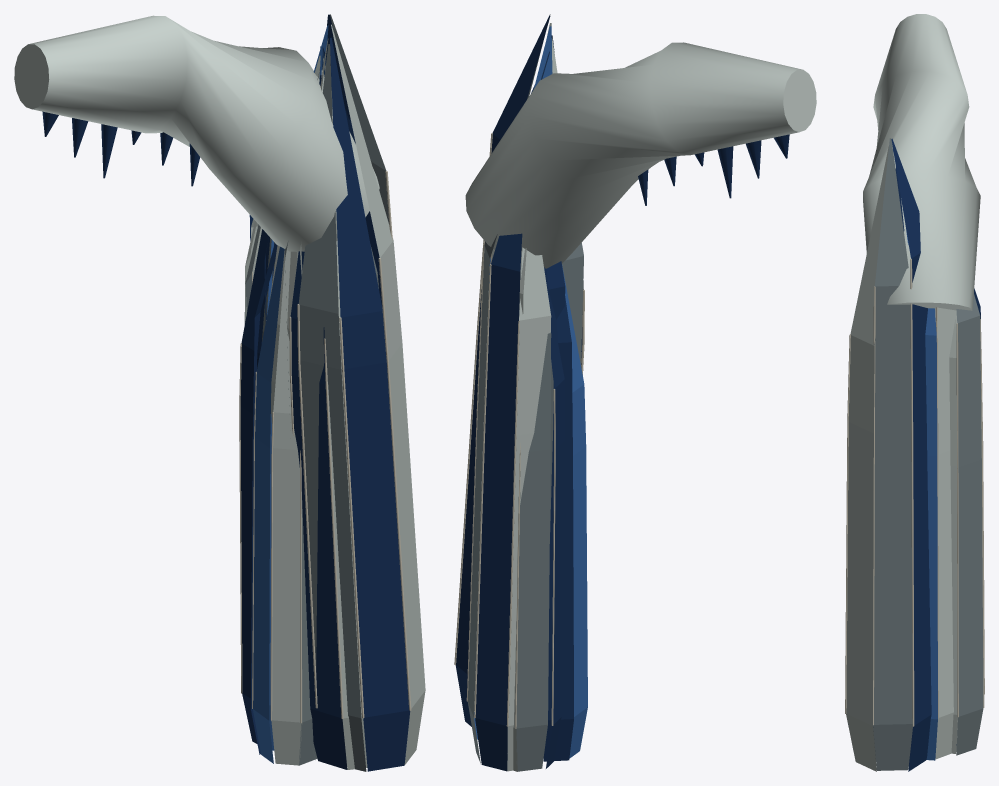
Rendered from ice_cornice.glb.
3 views of the same model, side by side, from view 1: azimuth 30°, elevation 25°; view 2: azimuth 150°, elevation 25°; view 3: azimuth 270°, elevation 25° (orthographic). The views are drawn at different scales.
Parts seen in each view (by area): view 1: ice_cornice; view 2: ice_cornice; view 3: ice_cornice.
Boxes of the visible parts, x1,y1,x2,y2 form: ice_cornice: [14, 14, 425, 771]; ice_cornice: [454, 14, 816, 771]; ice_cornice: [845, 14, 984, 771].
Size of the model in its own units: 21.51 by 42.59 by 8.71.
